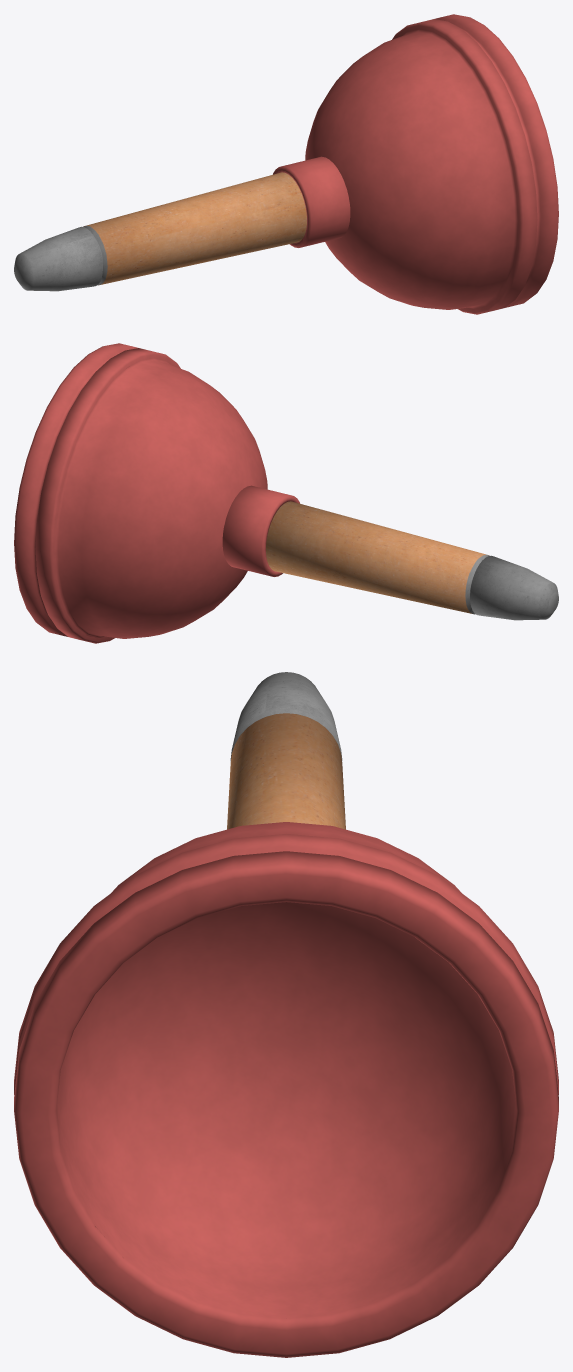
The model's file is plunger_asset.glb.
3 renders of one model, top to bottom at view 1: azimuth 30°, elevation 25°; view 2: azimuth 150°, elevation 25°; view 3: azimuth 270°, elevation 25°, orthographic. The views are drawn at different scales.
Parts seen in each view (by area): view 1: MetalloPlunger; view 2: MetalloPlunger; view 3: MetalloPlunger.
Part boxes in pixels (bbox=[...]): MetalloPlunger: bbox=[14, 14, 558, 314]; MetalloPlunger: bbox=[14, 343, 558, 643]; MetalloPlunger: bbox=[14, 672, 558, 1357].
Bounding box in the file's own units: 6.2 × 3.44 × 3.44.
Materials: 1 (1 with a texture image).
